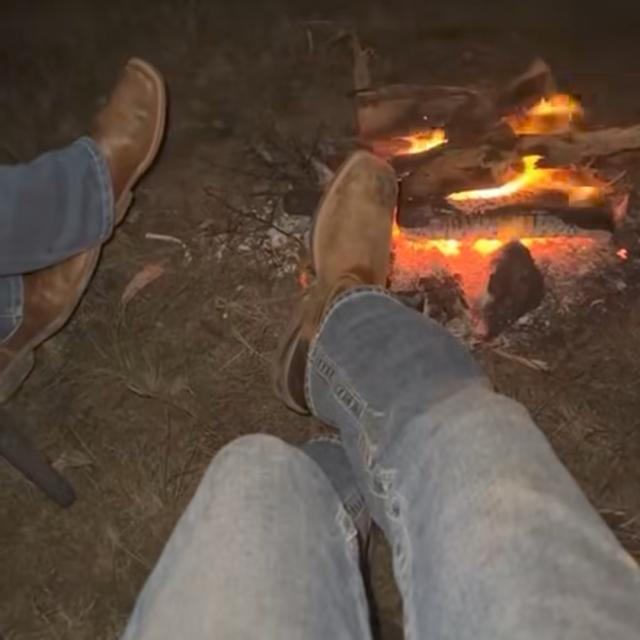fire: (448, 156, 565, 200), (518, 95, 581, 133)
